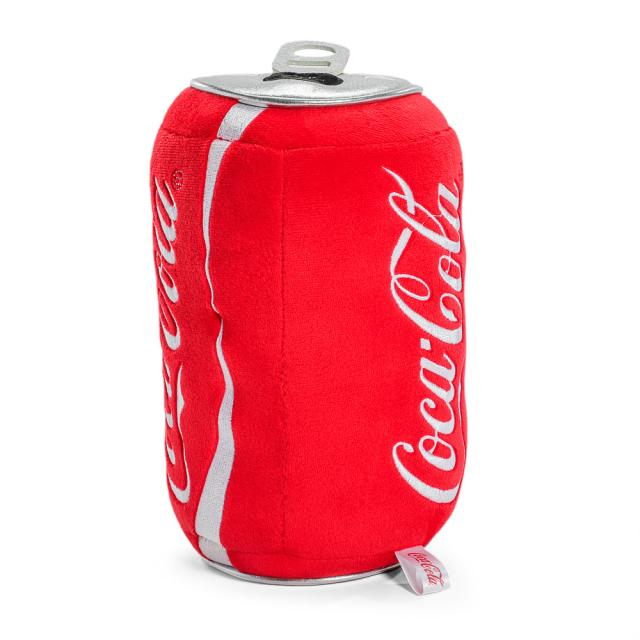cocacola: (149, 66, 454, 580)
